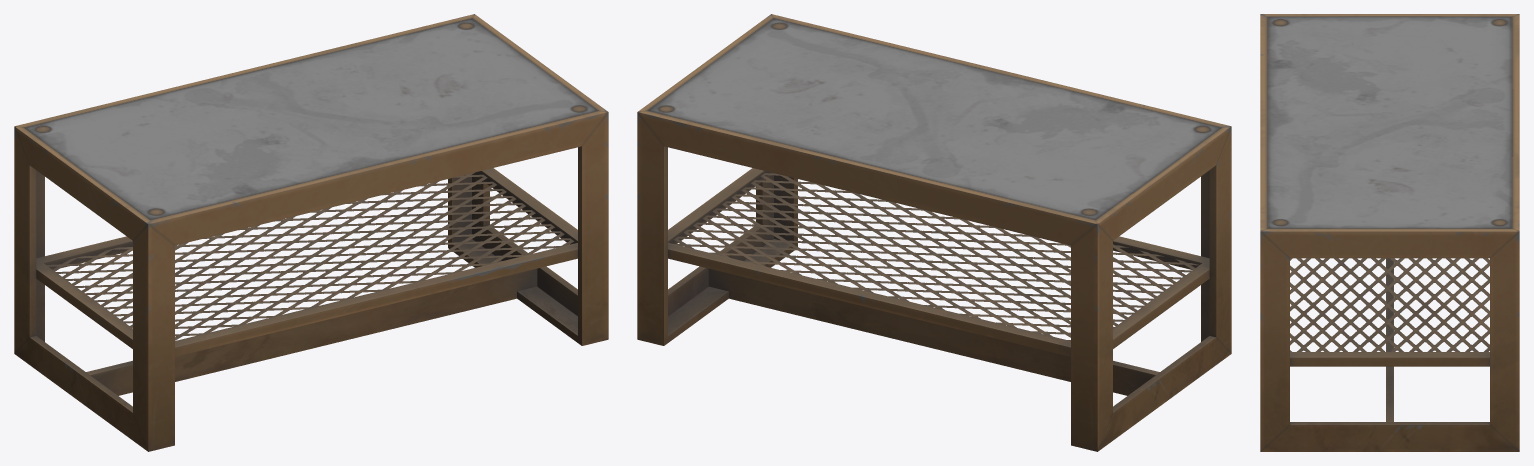
The model's file is P_ToolTable_001_S1_M01.obj.
The picture shows the model from 3 angles, left to right: view 1: azimuth 30°, elevation 25°; view 2: azimuth 150°, elevation 25°; view 3: azimuth 270°, elevation 25°; orthographic projection. The views are drawn at different scales.
Bounding box in the file's own units: 1.99 × 0.9418 × 1.
Materials: 1 (1 with a texture image).
